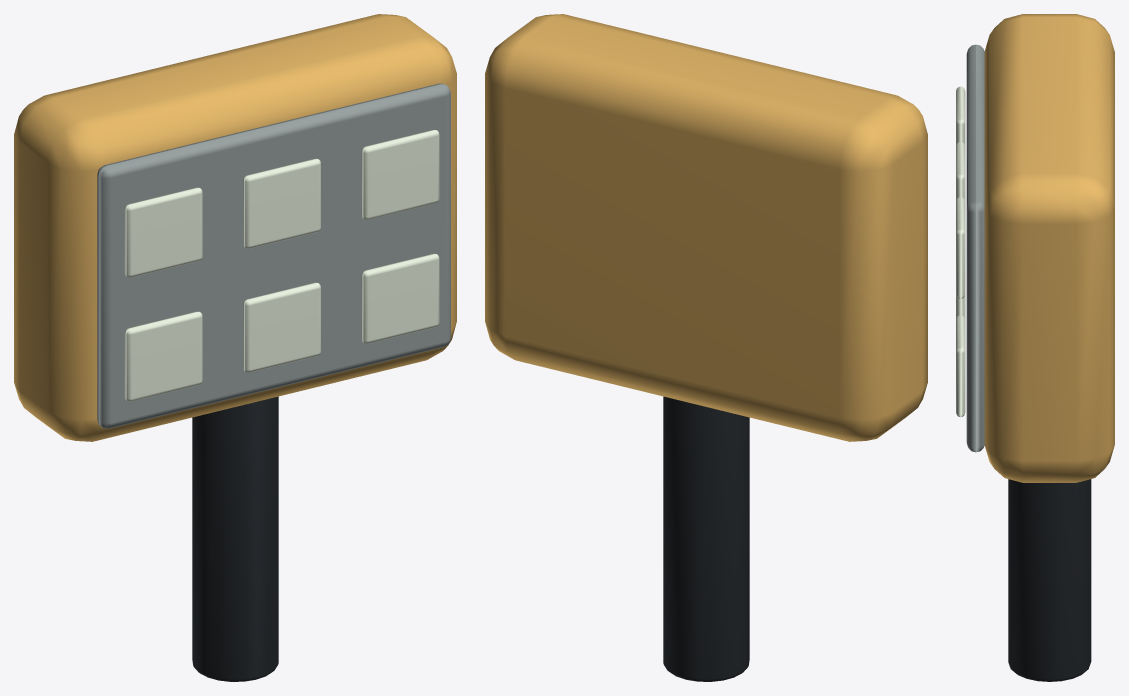
File: EQP_ProductionLight.fbx
3 renders of one model, left to right at view 1: azimuth 30°, elevation 25°; view 2: azimuth 150°, elevation 25°; view 3: azimuth 270°, elevation 25°, orthographic. The views are drawn at different scales.
Parts seen in each view (by area): view 1: EQP_ProductionLight; view 2: EQP_ProductionLight; view 3: EQP_ProductionLight.
Part boxes in pixels (x1,y1,x2,y2): EQP_ProductionLight: (14,14,456,681); EQP_ProductionLight: (485,14,927,681); EQP_ProductionLight: (956,14,1114,681).
Size of the model in its own units: 0.29 by 0.41 by 0.1035.
